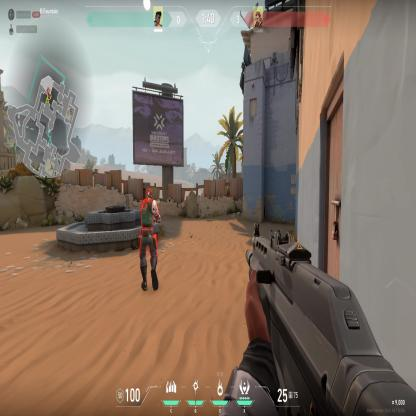enemy: (138, 185, 161, 294)
